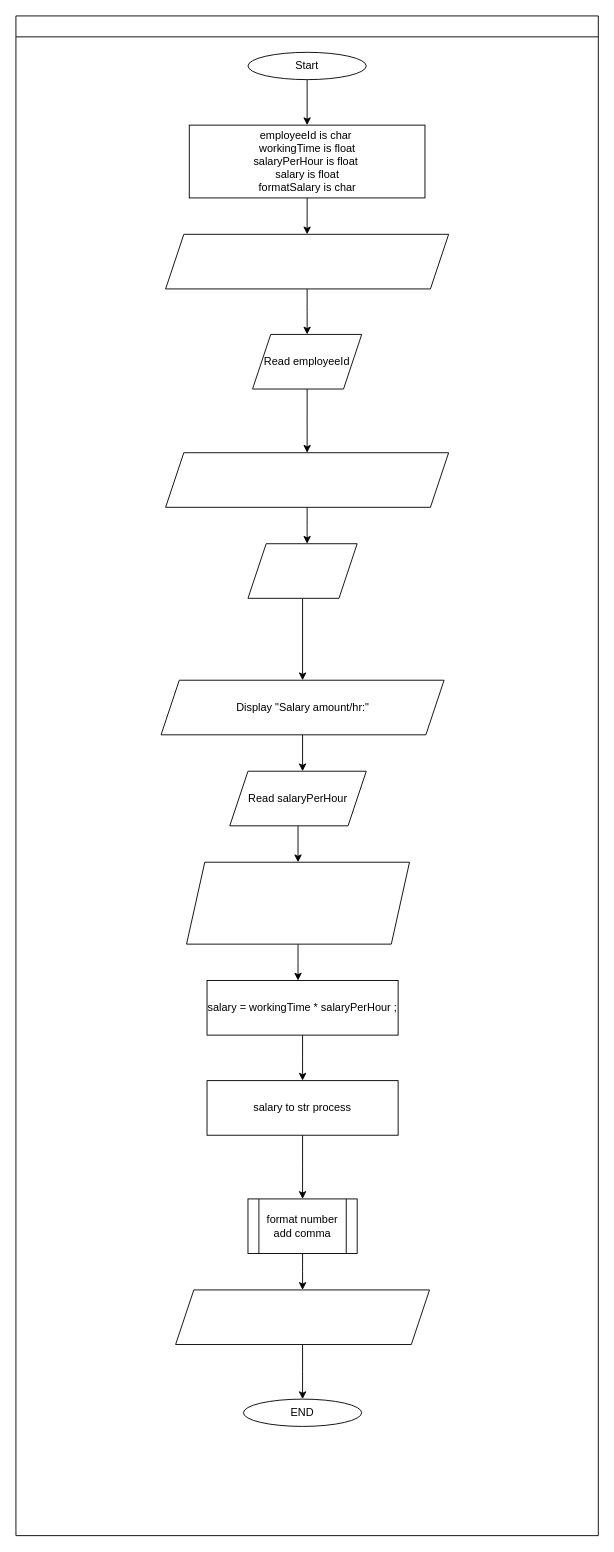
Some shapes in this 614 by 1552 pixel diagram are drawn without their labels. The box of each missing label's shape, as (x1, y1, x2, y2) in pixels:
Display "Employees ID =" + employeeId: (186, 861, 410, 944)
Display "Input the Employees ID(Max. 10 chars):": (165, 233, 449, 289)
Display "Input the working hrs: :": (165, 452, 449, 507)
Display "Salary = U$ " + salary: (175, 1289, 430, 1345)
Read workingTime: (247, 543, 357, 598)
